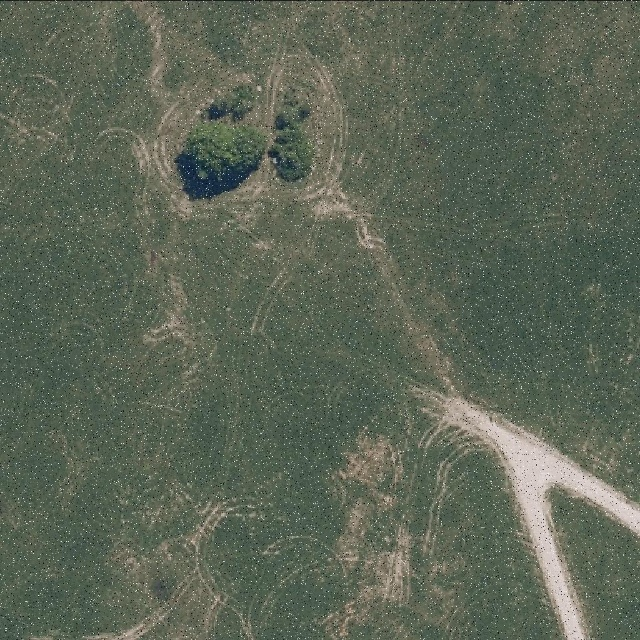vegetation: (182, 86, 318, 184)
